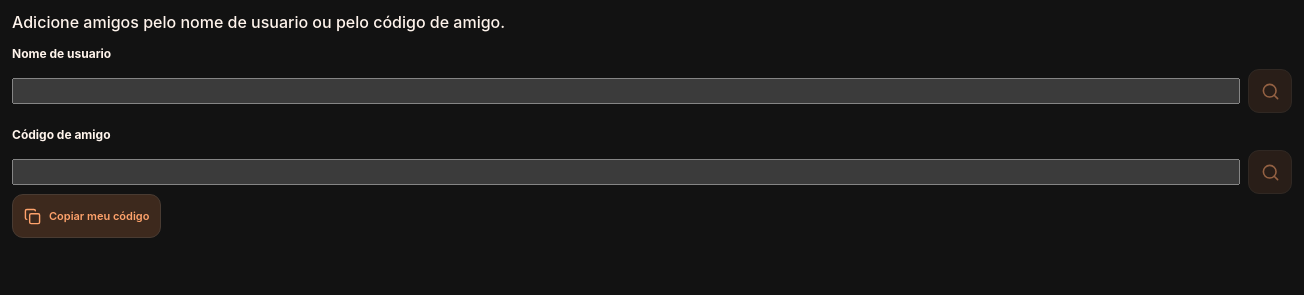
duplo envio da mesma busca não duplica a consulta
Type "Dani" into the search field labelled "Nome de usuario" at point(626, 91), box [12, 78, 1240, 104]
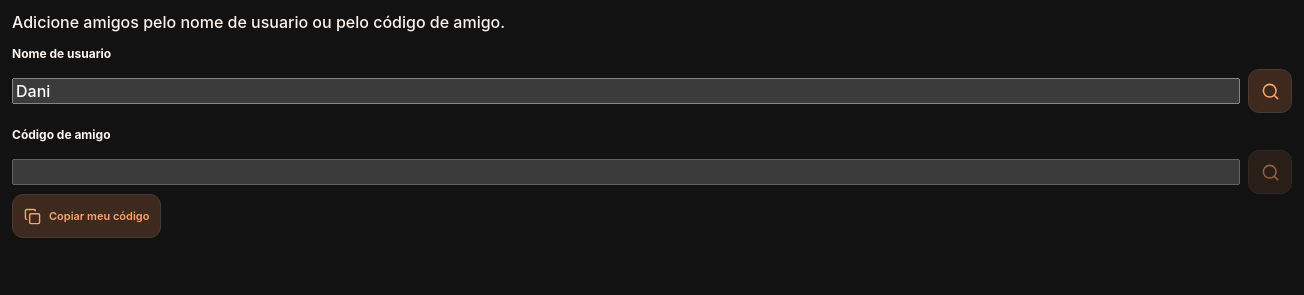
Click the button named "Buscar por nome de usuario" at point(1270, 91), box [1248, 69, 1292, 113]
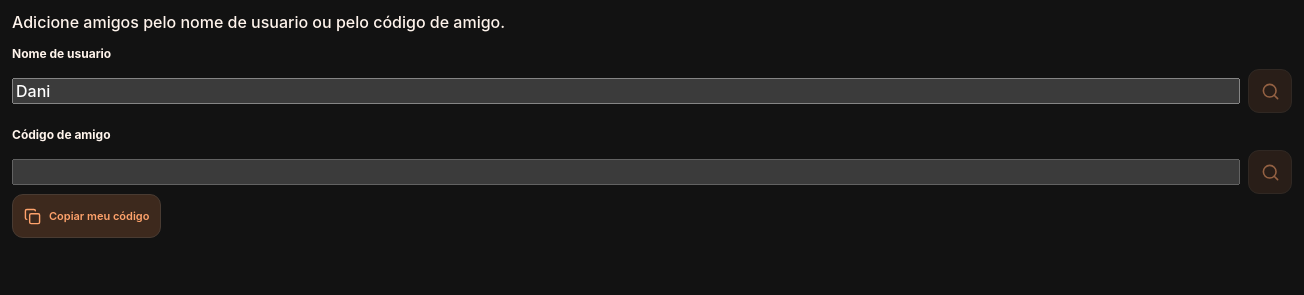
Click the button named "Buscar por nome de usuario" at point(1270, 91), box [1248, 69, 1292, 113]
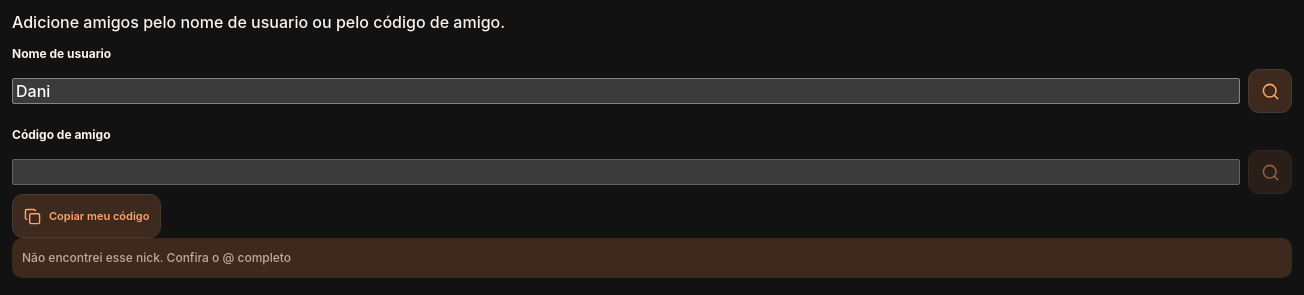
Result: the message shows "Não encontrei" at [22, 250, 291, 265]
